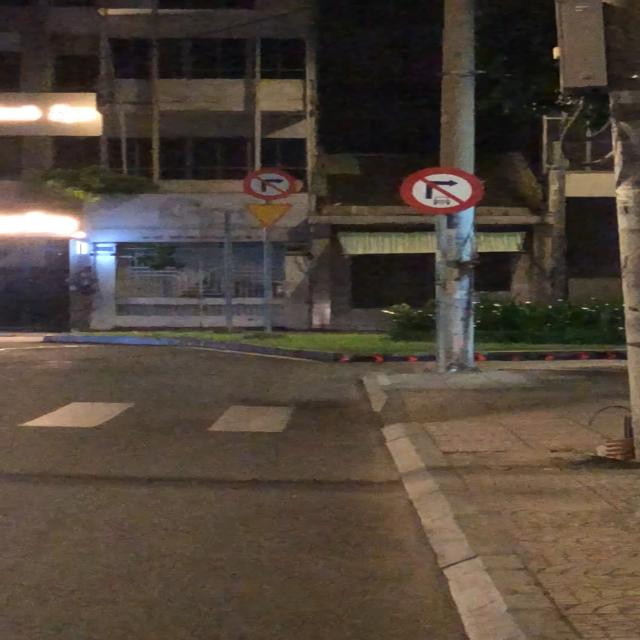Bien bao cam re phai: (241, 168, 299, 203)
Bien bao cam xe o to re phai: (399, 167, 487, 217)
Bien bao giao nhau voi duong uu tien: (240, 201, 297, 230)
